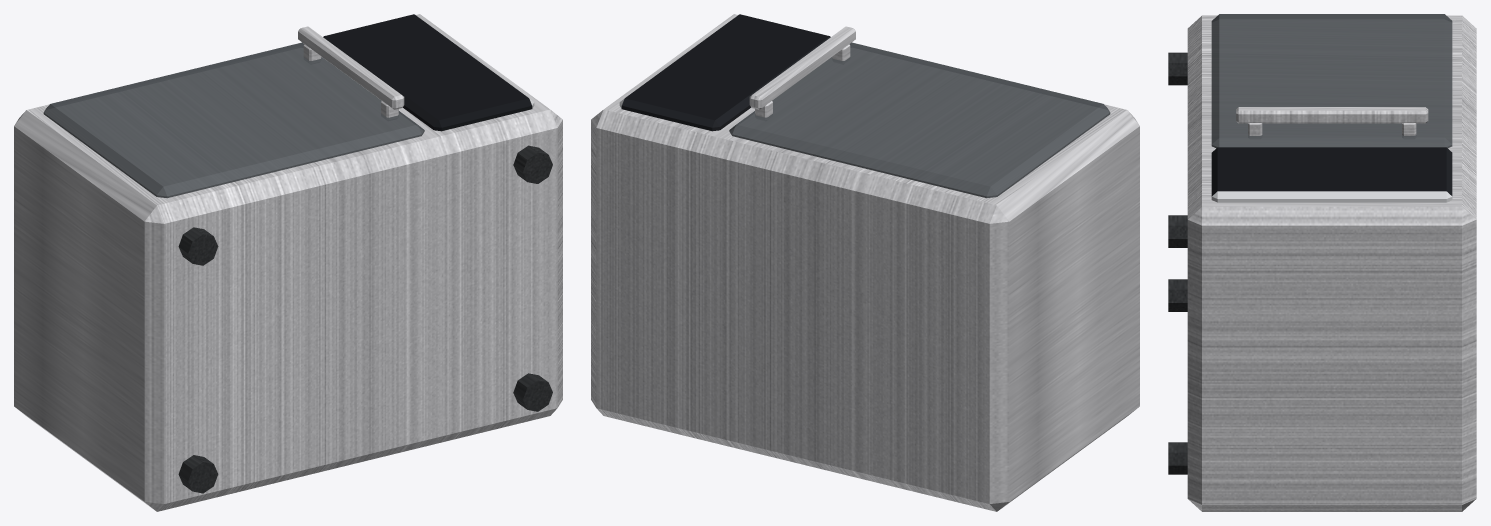
File: 07_Microondas_Oficina.fbx
3 views of the same model, side by side, from view 1: azimuth 30°, elevation 25°; view 2: azimuth 150°, elevation 25°; view 3: azimuth 270°, elevation 25° (orthographic).
Parts seen in each view (by area): view 1: 07_Microondas_Oficina; view 2: 07_Microondas_Oficina; view 3: 07_Microondas_Oficina.
Part boxes in pixels (left/top/right/bottom): 07_Microondas_Oficina: left=14, top=14, right=562, bottom=511; 07_Microondas_Oficina: left=591, top=14, right=1139, bottom=511; 07_Microondas_Oficina: left=1168, top=14, right=1476, bottom=511.
Size of the model in its own units: 0.5 by 0.3875 by 0.32.
